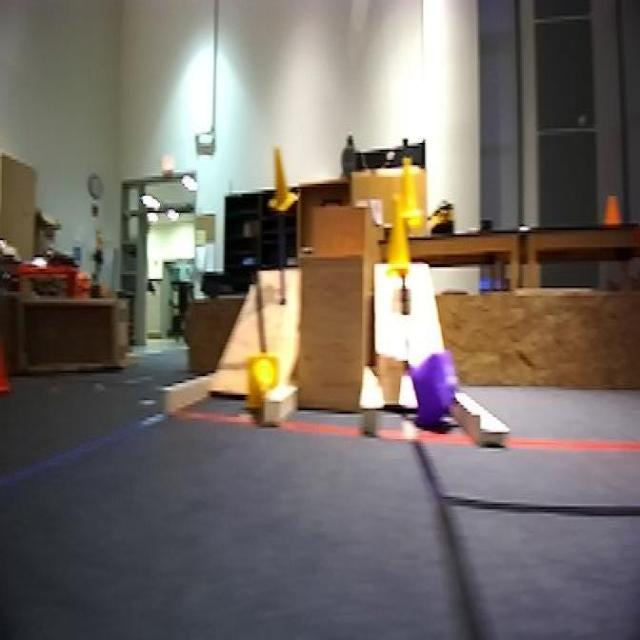frc_cone: (382, 201, 415, 277), (266, 143, 297, 216), (246, 356, 279, 408), (395, 153, 417, 223)
frc_cube: (405, 350, 455, 430)
